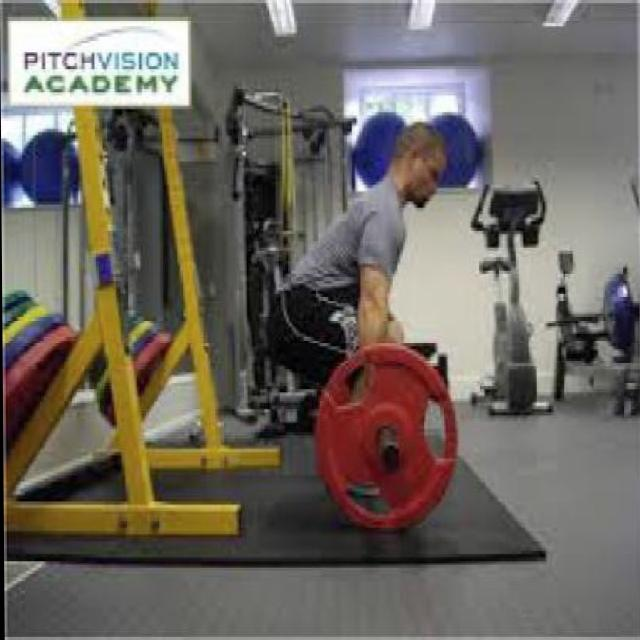barbell: (308, 335, 467, 541)
